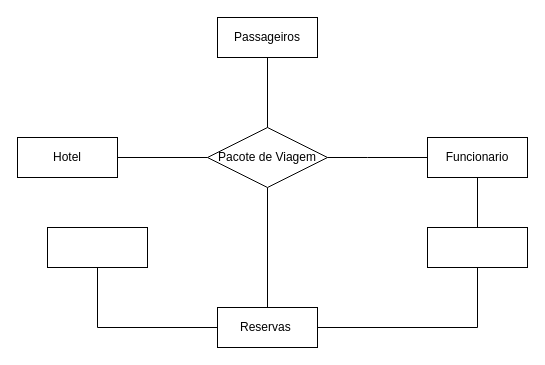
Image size: 545x365. Some labels were removed from this diagram. Here are the shapes that lost their labels. From the top down, the centre of each, then its label:
the point at 97,247: Pagamento
the point at 477,247: Cadastro do Cliente
